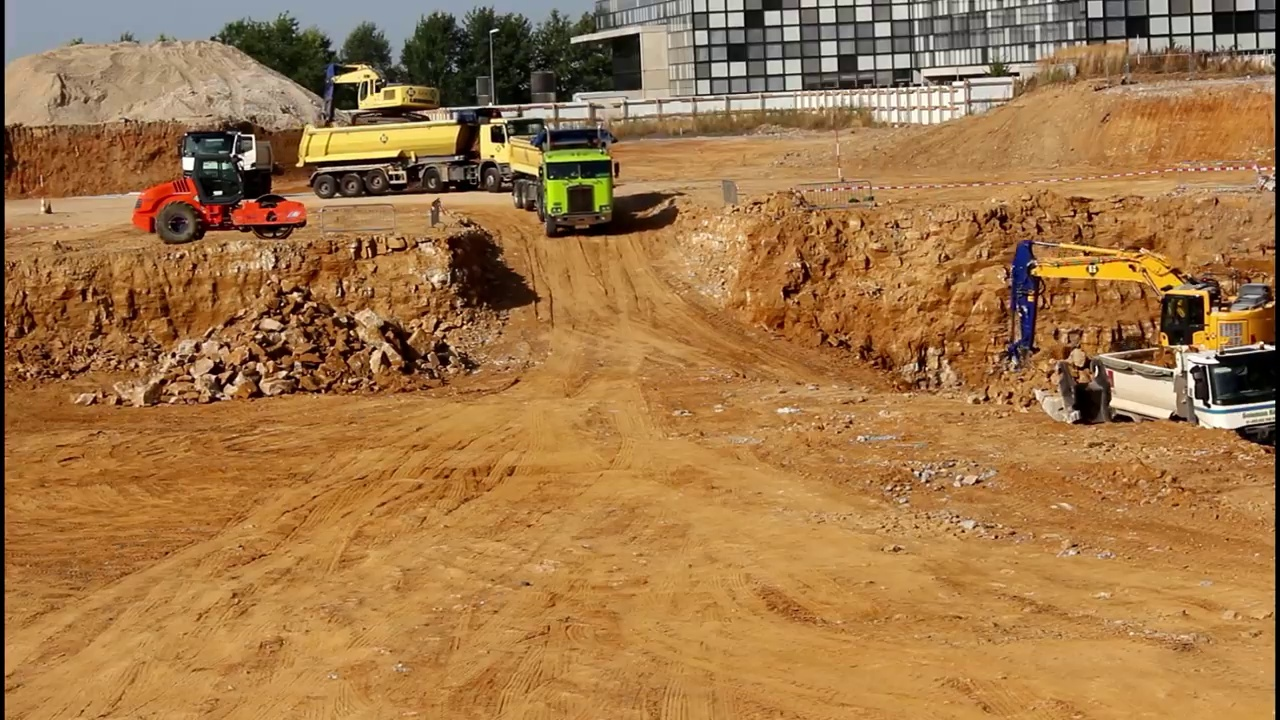compactor: (130, 151, 309, 245)
excavator: (997, 233, 1280, 394), (305, 54, 447, 140)
truck: (1070, 334, 1280, 459), (297, 121, 556, 198), (505, 126, 633, 243), (171, 119, 281, 206)
